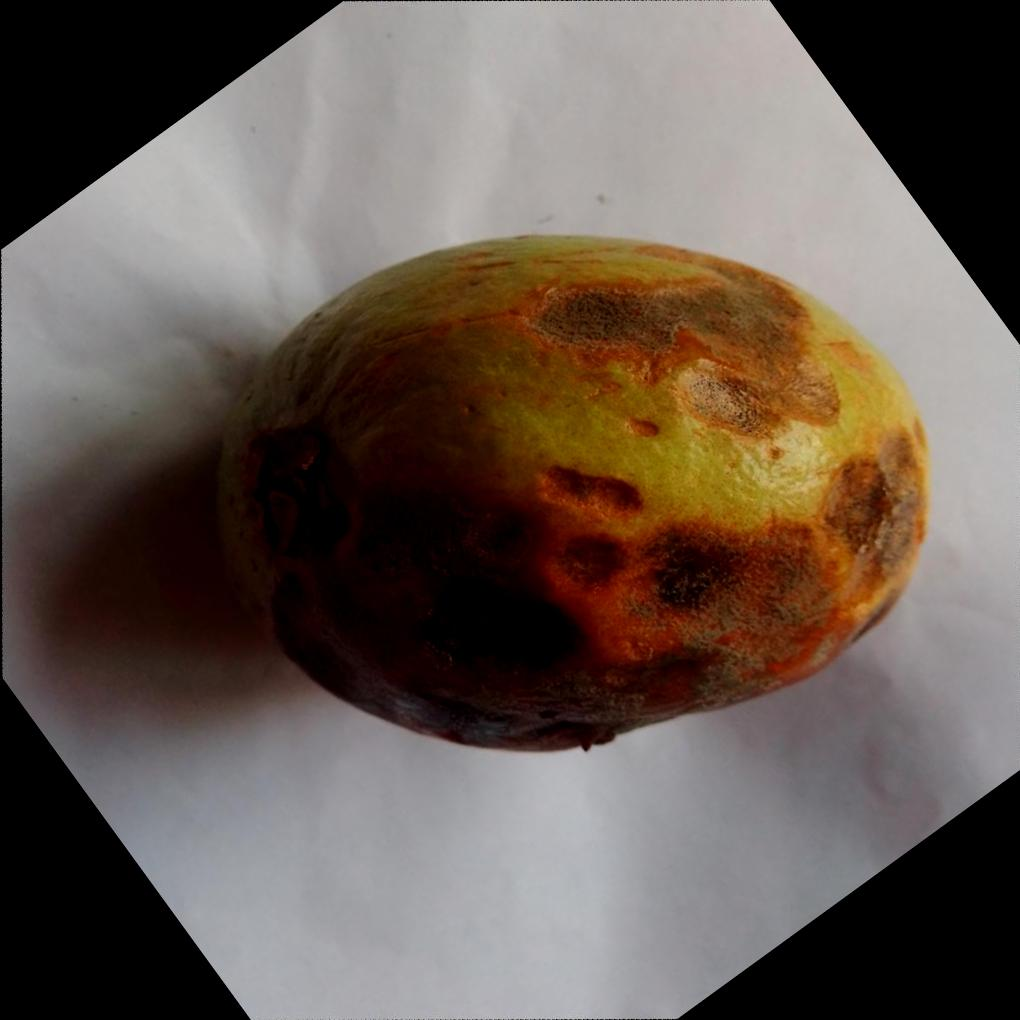FreshOrange: (208, 233, 930, 756)
